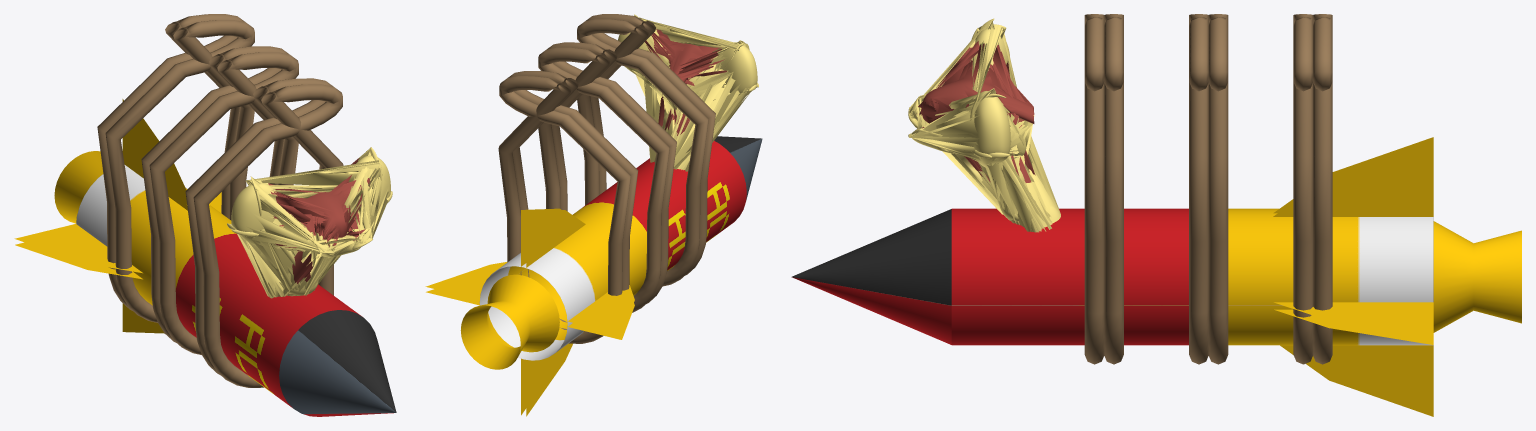
Rendered from wile_e_coyote_rocket.obj.
The picture shows the model from 3 angles, left to right: view 1: azimuth 30°, elevation 25°; view 2: azimuth 150°, elevation 25°; view 3: azimuth 270°, elevation 25°; orthographic projection. The views are drawn at different scales.
Visible parts, largest first — view 1: Wile_E_Coyote_Rocket; view 2: Wile_E_Coyote_Rocket; view 3: Wile_E_Coyote_Rocket.
Boxes of the visible parts, box(x1,y1,x2,y2) form: Wile_E_Coyote_Rocket: box(14, 14, 396, 416); Wile_E_Coyote_Rocket: box(425, 14, 762, 416); Wile_E_Coyote_Rocket: box(791, 14, 1521, 416).
Size of the model in its own units: 38 by 56.12 by 91.
Materials: 1 (1 with a texture image).
